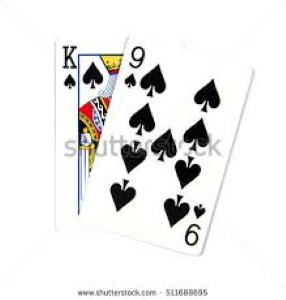KingOfSpades: (44, 25, 128, 240)
NineOfSpades: (77, 25, 257, 261)
